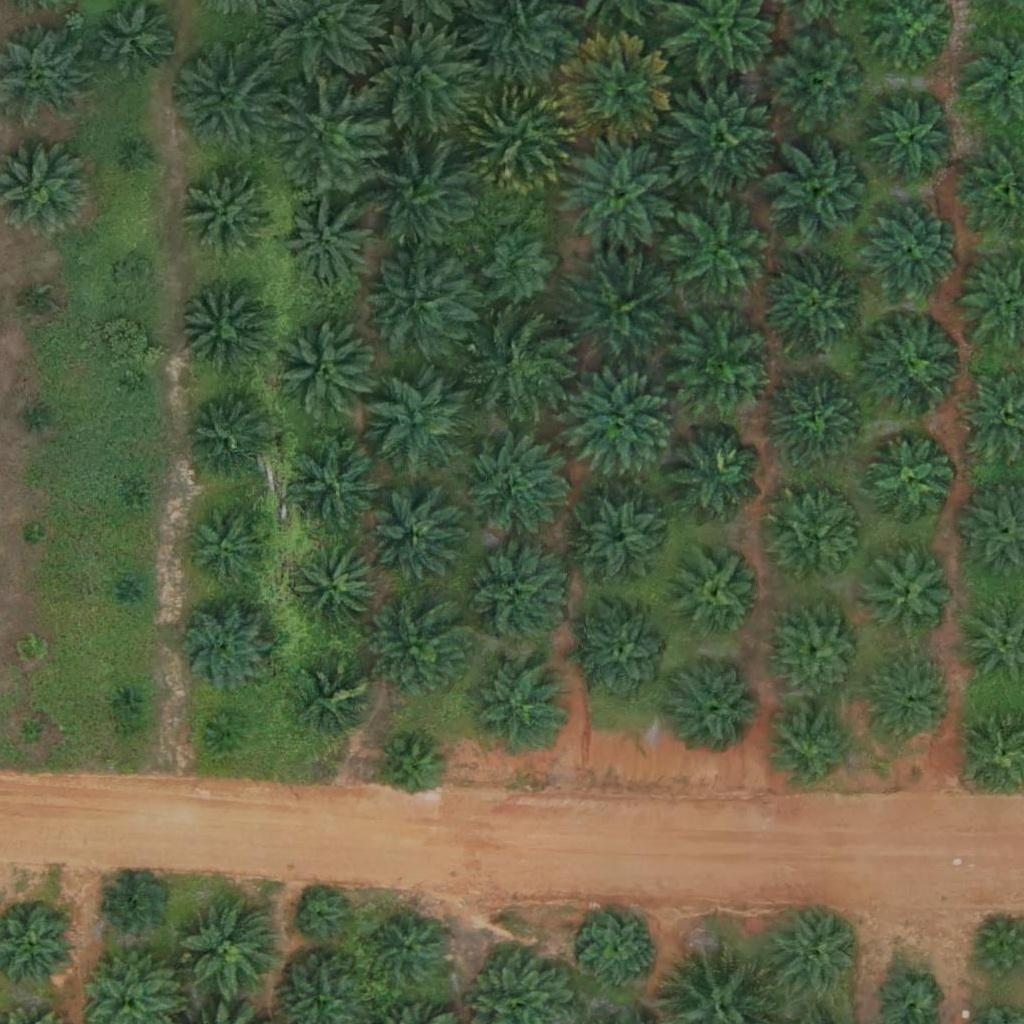Kelapa_Sawit: (562, 373, 675, 487), (169, 42, 282, 156), (664, 201, 777, 314), (560, 34, 673, 147), (462, 83, 575, 196), (562, 135, 675, 248), (559, 253, 672, 366), (363, 140, 475, 254), (367, 243, 479, 357), (272, 76, 384, 190), (663, 83, 775, 196), (360, 27, 472, 140), (169, 591, 281, 704), (859, 201, 959, 302), (864, 314, 964, 415), (769, 32, 869, 133), (767, 141, 867, 242), (765, 257, 865, 358), (767, 367, 867, 468), (675, 311, 775, 412), (366, 372, 466, 473), (275, 321, 375, 422), (283, 433, 383, 534), (370, 600, 470, 701), (464, 545, 564, 646), (469, 655, 569, 756), (180, 900, 280, 1001), (664, 423, 764, 523), (471, 316, 571, 416), (464, 437, 564, 537), (575, 604, 675, 704), (667, 655, 767, 755), (769, 601, 869, 701), (764, 905, 864, 1005), (187, 502, 275, 591), (866, 438, 954, 526), (572, 496, 660, 584), (184, 394, 272, 482), (293, 546, 381, 634), (866, 551, 954, 639), (868, 657, 956, 745), (869, 98, 956, 186), (772, 497, 859, 585), (373, 498, 460, 586), (285, 199, 372, 287), (185, 166, 272, 254), (178, 288, 265, 376), (675, 547, 762, 635), (769, 704, 856, 792), (480, 227, 555, 303), (581, 910, 656, 986), (300, 664, 375, 739), (372, 913, 447, 988), (379, 737, 442, 800), (102, 875, 165, 938), (297, 892, 347, 942), (116, 258, 154, 296), (209, 713, 247, 751), (129, 143, 154, 168), (125, 373, 150, 398), (119, 489, 144, 514), (25, 293, 50, 318), (25, 406, 50, 431), (21, 524, 46, 549), (17, 636, 42, 661), (20, 720, 45, 745), (120, 578, 145, 603), (113, 688, 138, 713)
